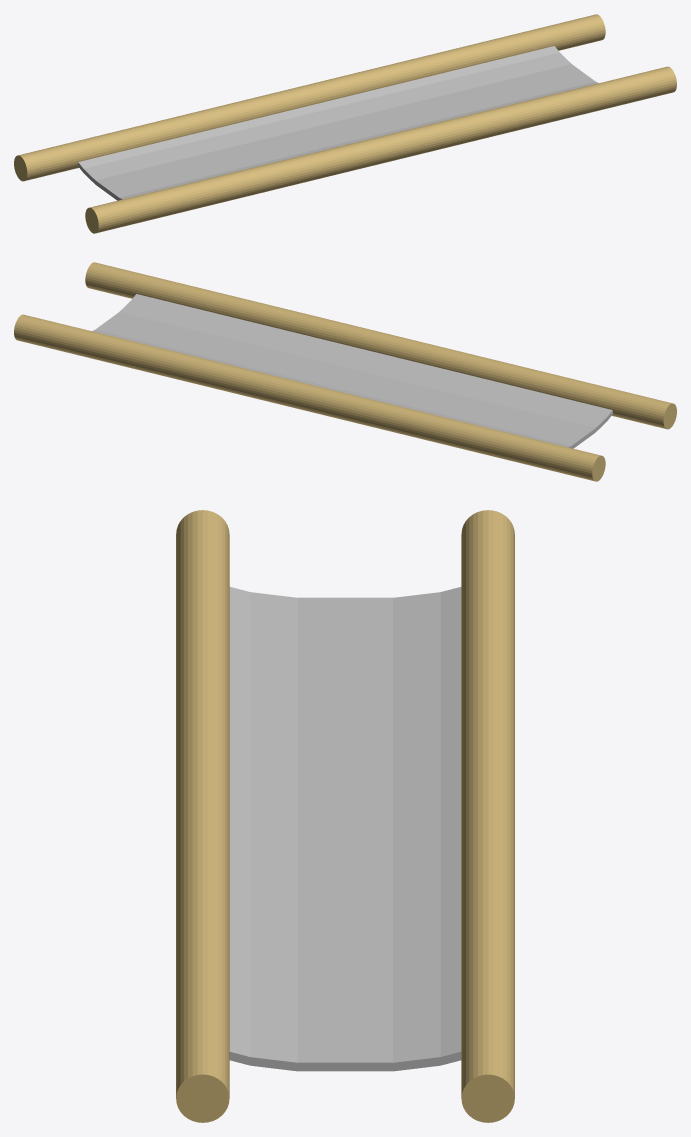
Rendered from Stretcher.fbx.
3 renders of one model, top to bottom at view 1: azimuth 30°, elevation 25°; view 2: azimuth 150°, elevation 25°; view 3: azimuth 270°, elevation 25°, orthographic. The views are drawn at different scales.
Parts seen in each view (by area): view 1: StretcherHandle, StretcherCloth; view 2: StretcherHandle, StretcherCloth; view 3: StretcherCloth, StretcherHandle.
Part boxes in pixels (<box>): StretcherHandle: <box>14,14,676,233</box>; StretcherCloth: <box>77,46,598,200</box>; StretcherHandle: <box>14,262,676,481</box>; StretcherCloth: <box>92,294,613,448</box>; StretcherCloth: <box>229,587,461,1071</box>; StretcherHandle: <box>176,510,514,1122</box>.
Bounding box in the file's own units: 936 × 37.44 × 237.
